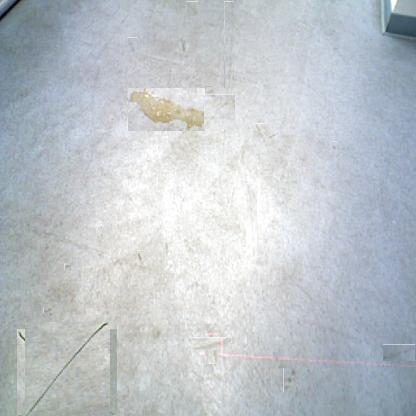liquid: (127, 87, 205, 131), (205, 86, 213, 92)
mark: (21, 325, 114, 416), (203, 95, 236, 129), (224, 1, 234, 88), (246, 183, 257, 260), (198, 331, 225, 357), (250, 127, 273, 151), (383, 344, 415, 361), (283, 368, 296, 392), (186, 1, 198, 16), (126, 39, 139, 51), (178, 36, 186, 53), (138, 250, 146, 265), (166, 242, 172, 260), (45, 306, 53, 315), (64, 262, 71, 270), (331, 141, 337, 150)
